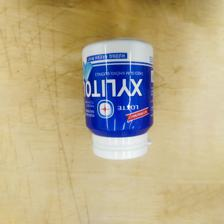Xylitol_blue: (80, 37, 156, 162)
